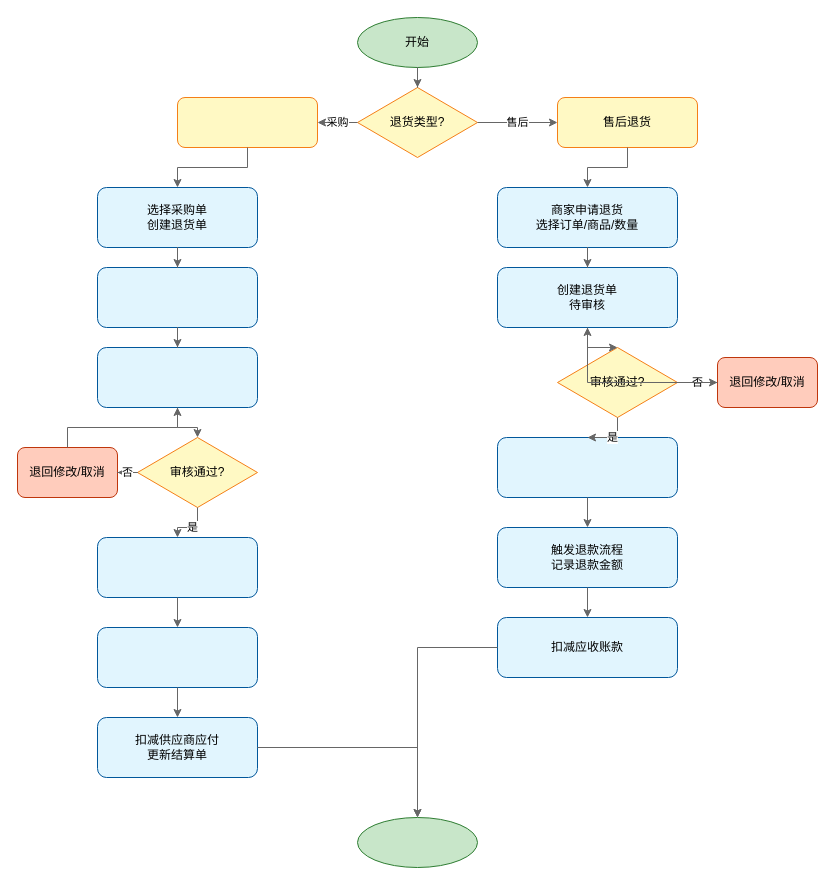
The diagram is 835 pixels wide and 885 high, and some of its shapes have lost their labels. Here are the shapes that lost their labels. From the top down, the box of each, then its label:
(176, 96, 318, 148): 采购退货
(96, 266, 258, 328): 选择退货商品 输入退货数量/原因
(96, 346, 258, 408): 提交退货单待审核
(496, 436, 678, 498): 确认退货 记录实际退货数量
(96, 536, 258, 598): 执行出库 记录实际出库数量/金额
(96, 626, 258, 688): 扣减仓库库存 记录库存变动日志
(356, 816, 478, 868): 退货完成
